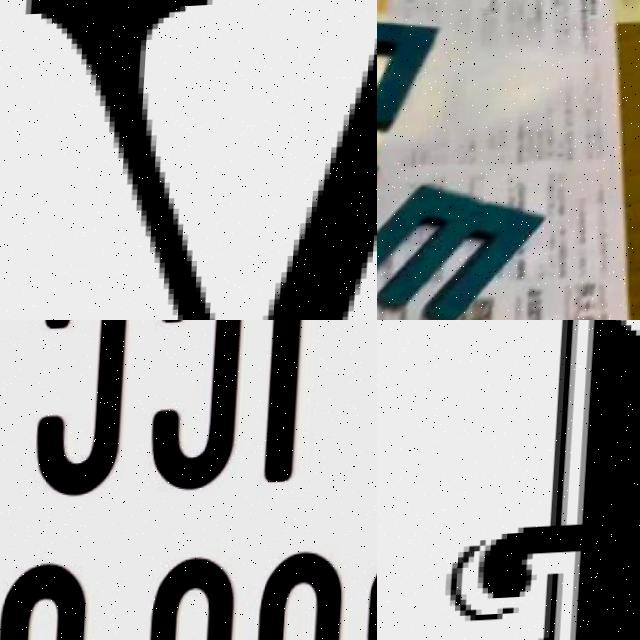0: (257, 550, 351, 640), (141, 559, 243, 640)
1: (262, 320, 341, 492)
9: (0, 560, 97, 640)
C: (31, 320, 131, 509), (147, 320, 249, 505)
D: (377, 20, 434, 149)
M: (377, 182, 544, 320)
V: (0, 0, 377, 320)
